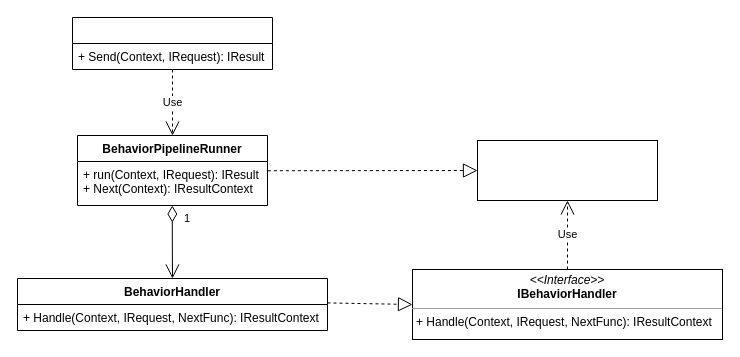
The diagram is 740 pixels wide and 357 high, and some of its shapes have lost their labels. Each missing label, with the box of its shape:
<<Interface>> NextFunc + Next(Context): IResultContext: (476, 140, 658, 200)
Mediator: (72, 16, 272, 70)
